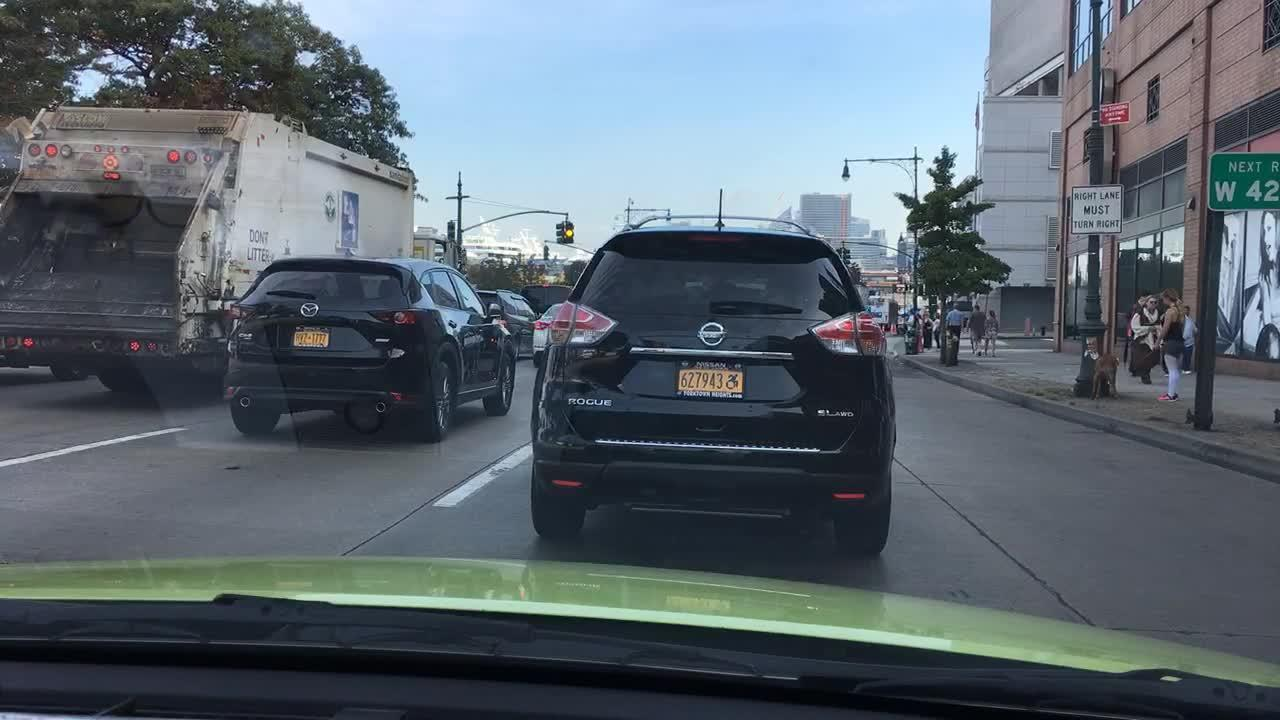Mazda: (290, 293, 333, 327)
Nissan: (690, 316, 738, 349)
